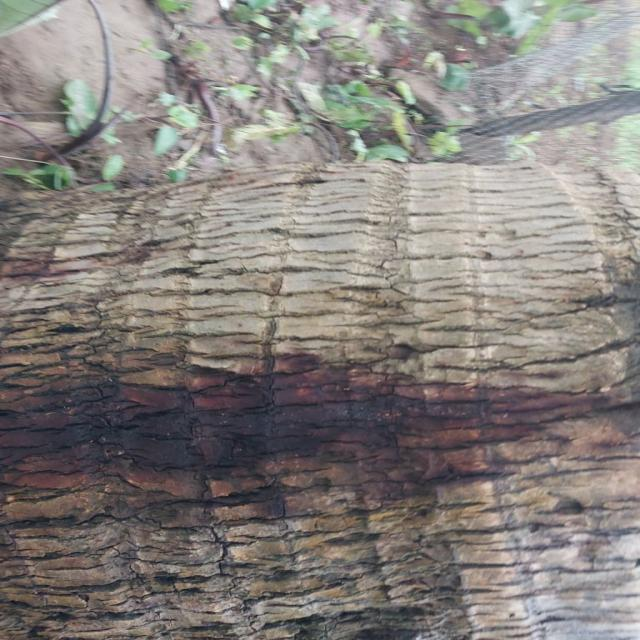stembleeding: (0, 323, 621, 518)
